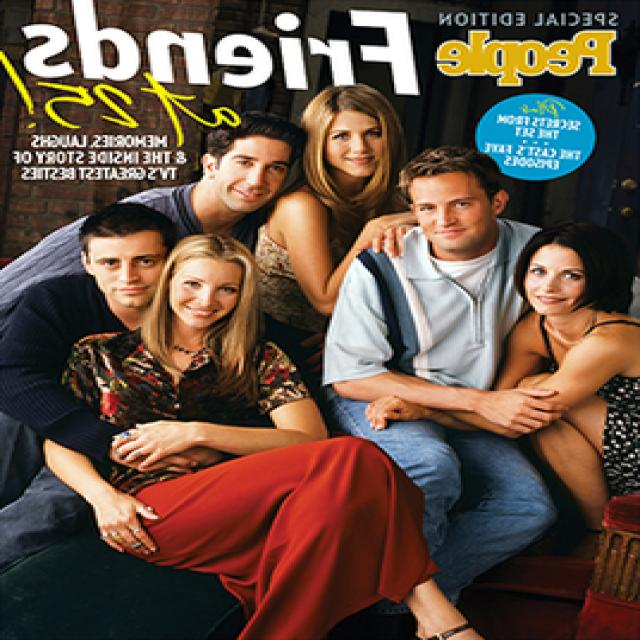face: (80, 210, 173, 325), (165, 232, 248, 333), (406, 167, 501, 253), (318, 93, 386, 191), (214, 136, 298, 214), (519, 241, 589, 322)
